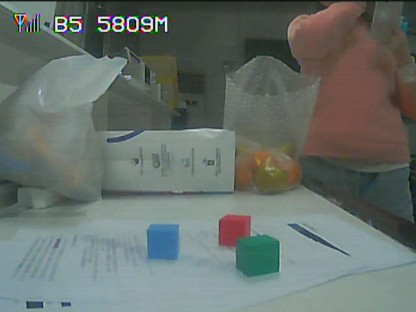b: (150, 226, 177, 257)
g: (239, 240, 278, 273)
r: (219, 215, 247, 244)
